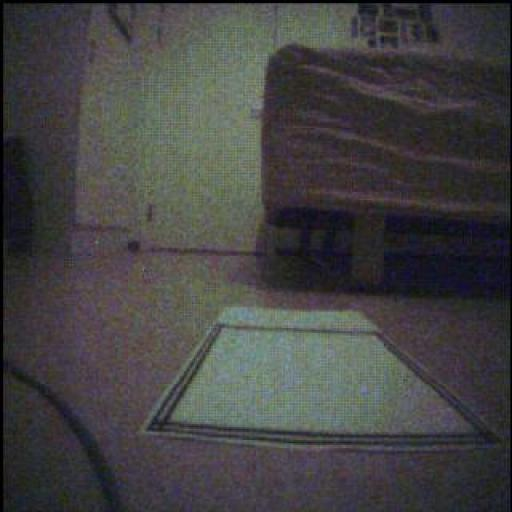pad: (144, 308, 499, 451)
